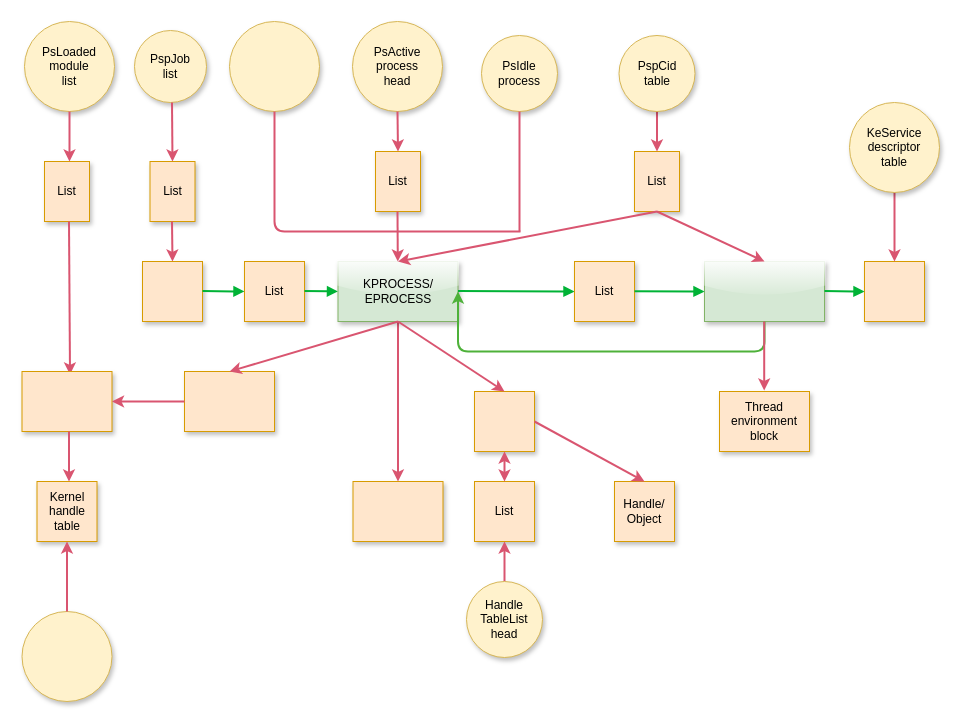
The diagram is 963 pixels wide and 726 high, and some of its shapes have lost their labels. The centre of each missing label's shape, as x and y in pixels:
"EJOB" belongs at point 173,292.
"KTHREAD/E THREAD" belongs at point 765,292.
"Module (DLL/SYS)" belongs at point 67,402.
"ObpKernel handle table" belongs at point 67,657.
"Page directory" belongs at point 398,512.
"Process environment block" belongs at point 230,402.
"Process handle table" belongs at point 505,422.
"PsInitial system process" belongs at point 275,67.
"System service table" belongs at point 895,292.
